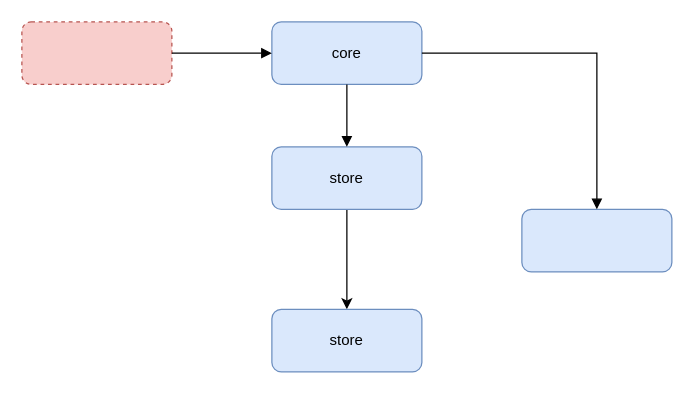
The diagram is 694 pixels wide and 394 high, and some of its shapes have lost their labels. The centre of each missing label's shape, as x and y in pixels:
"app" goes at (96,52).
"util" goes at (596,240).
